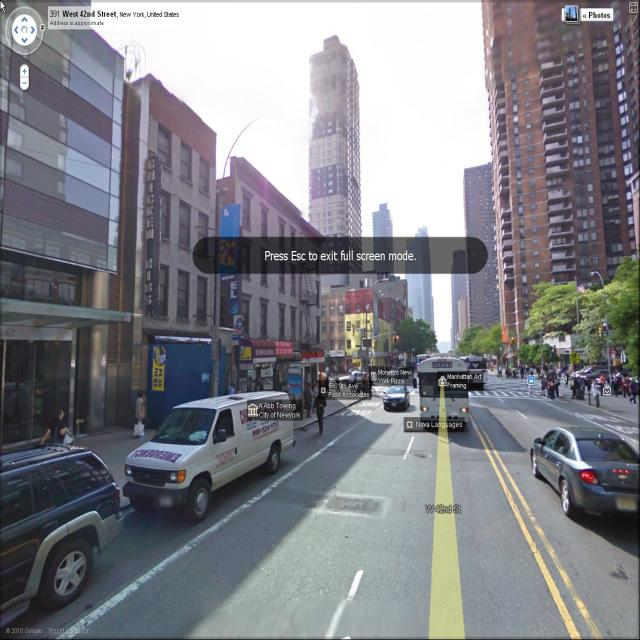b_1: (2, 6, 140, 402), (480, 9, 639, 272), (117, 76, 232, 397), (216, 165, 326, 389), (299, 37, 370, 273), (450, 155, 506, 344), (402, 226, 444, 342), (441, 243, 475, 353), (365, 189, 399, 284)
b_2: (521, 274, 640, 393)
